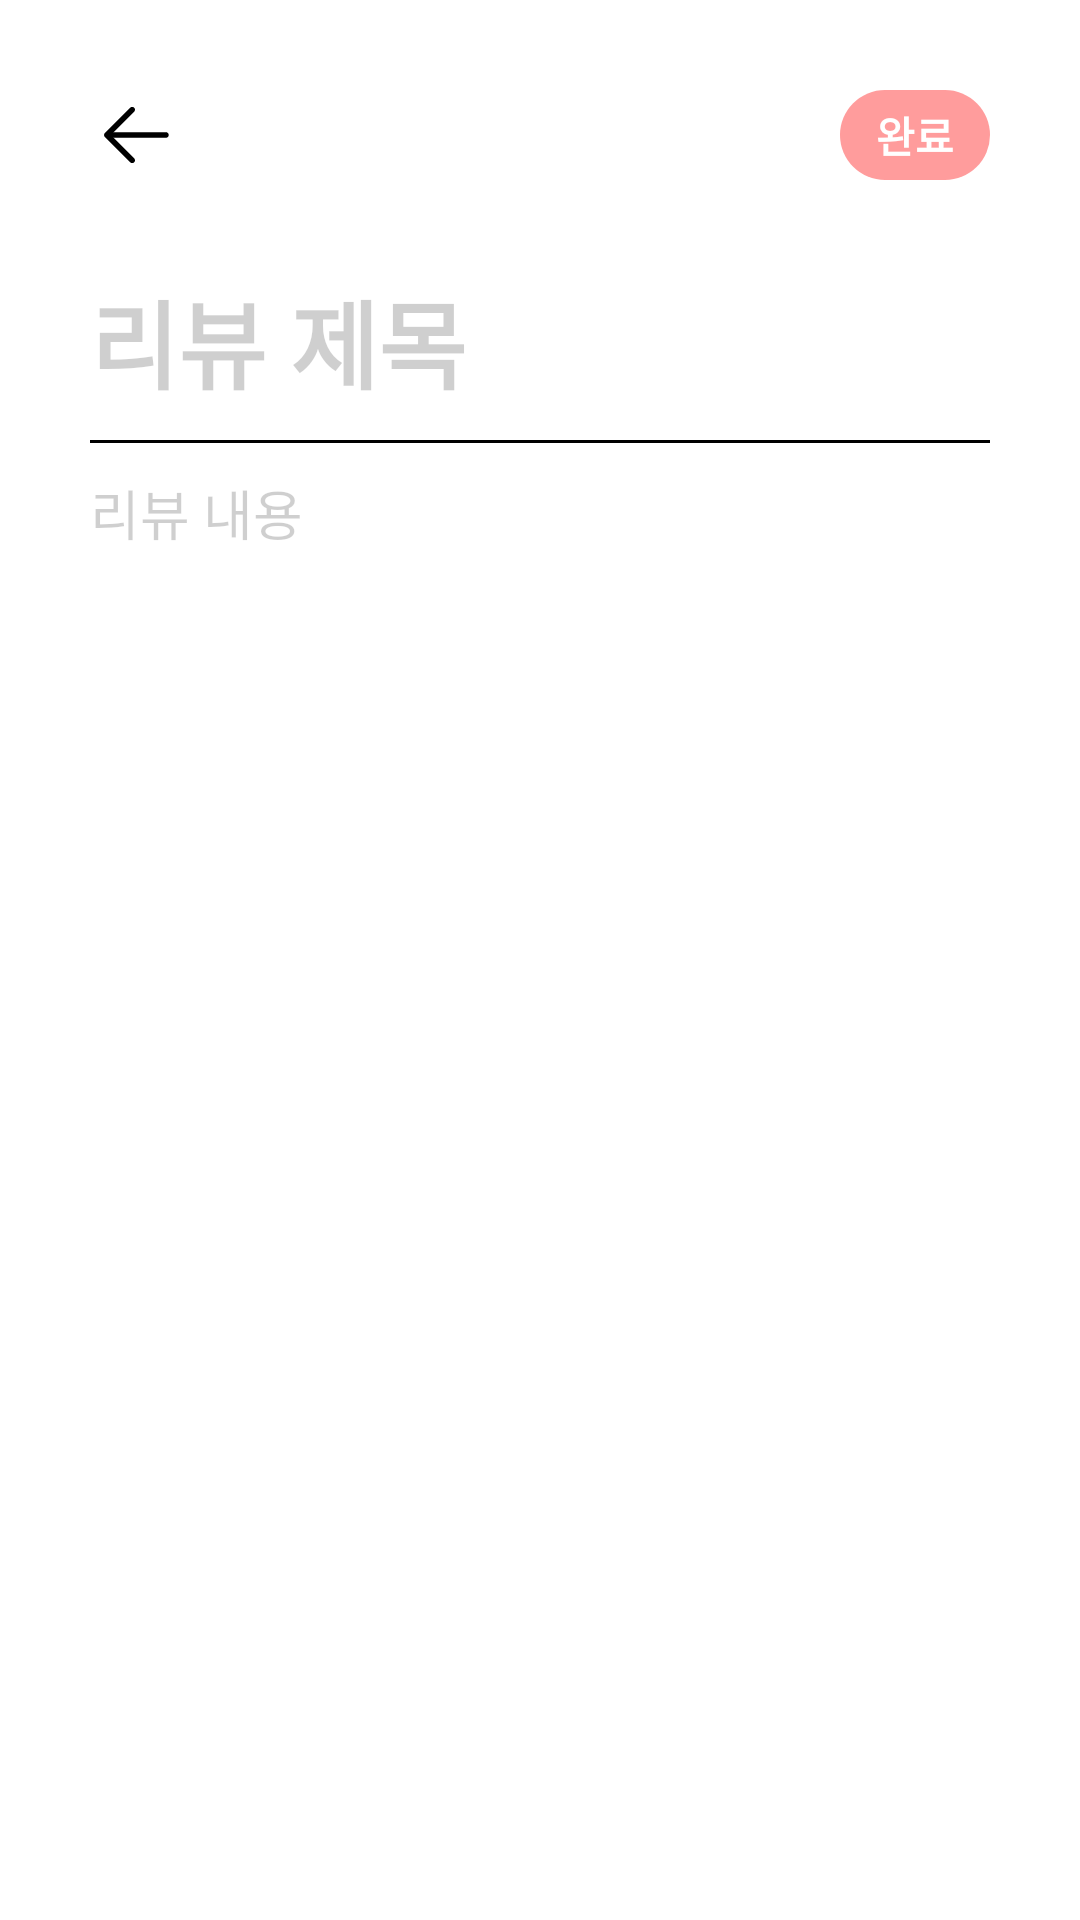

Locate icon controls on the screen. Image size 1080 x 1920, boxes as box=[x1, y1, x2, y2].
back: box=[104, 107, 169, 163]
